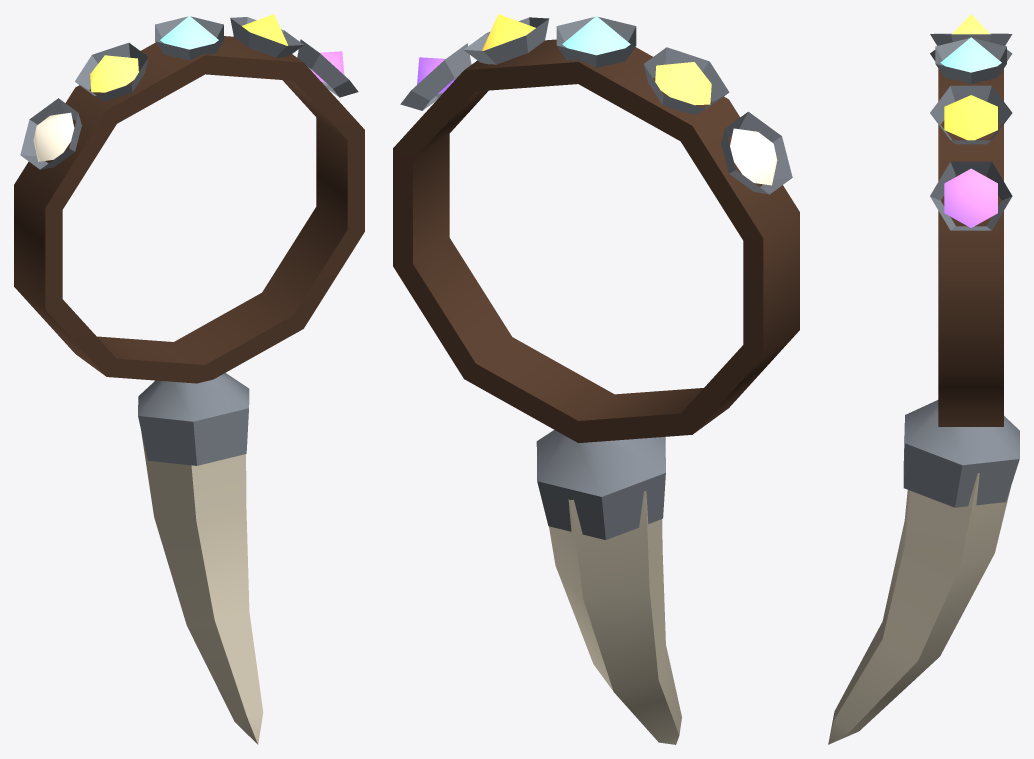
The model's file is tooth-charm-2.glb.
The picture shows the model from 3 angles, left to right: view 1: azimuth 30°, elevation 25°; view 2: azimuth 150°, elevation 25°; view 3: azimuth 270°, elevation 25°; orthographic projection. The views are drawn at different scales.
Visible parts, largest first — view 1: tooth-charm-2; view 2: tooth-charm-2; view 3: tooth-charm-2.
Part boxes in pixels (x1,y1,x2,y2): tooth-charm-2: (14, 14, 364, 744); tooth-charm-2: (393, 14, 799, 744); tooth-charm-2: (828, 14, 1019, 744).
Size of the model in its own units: 0.0734 by 0.1491 by 0.0366.
